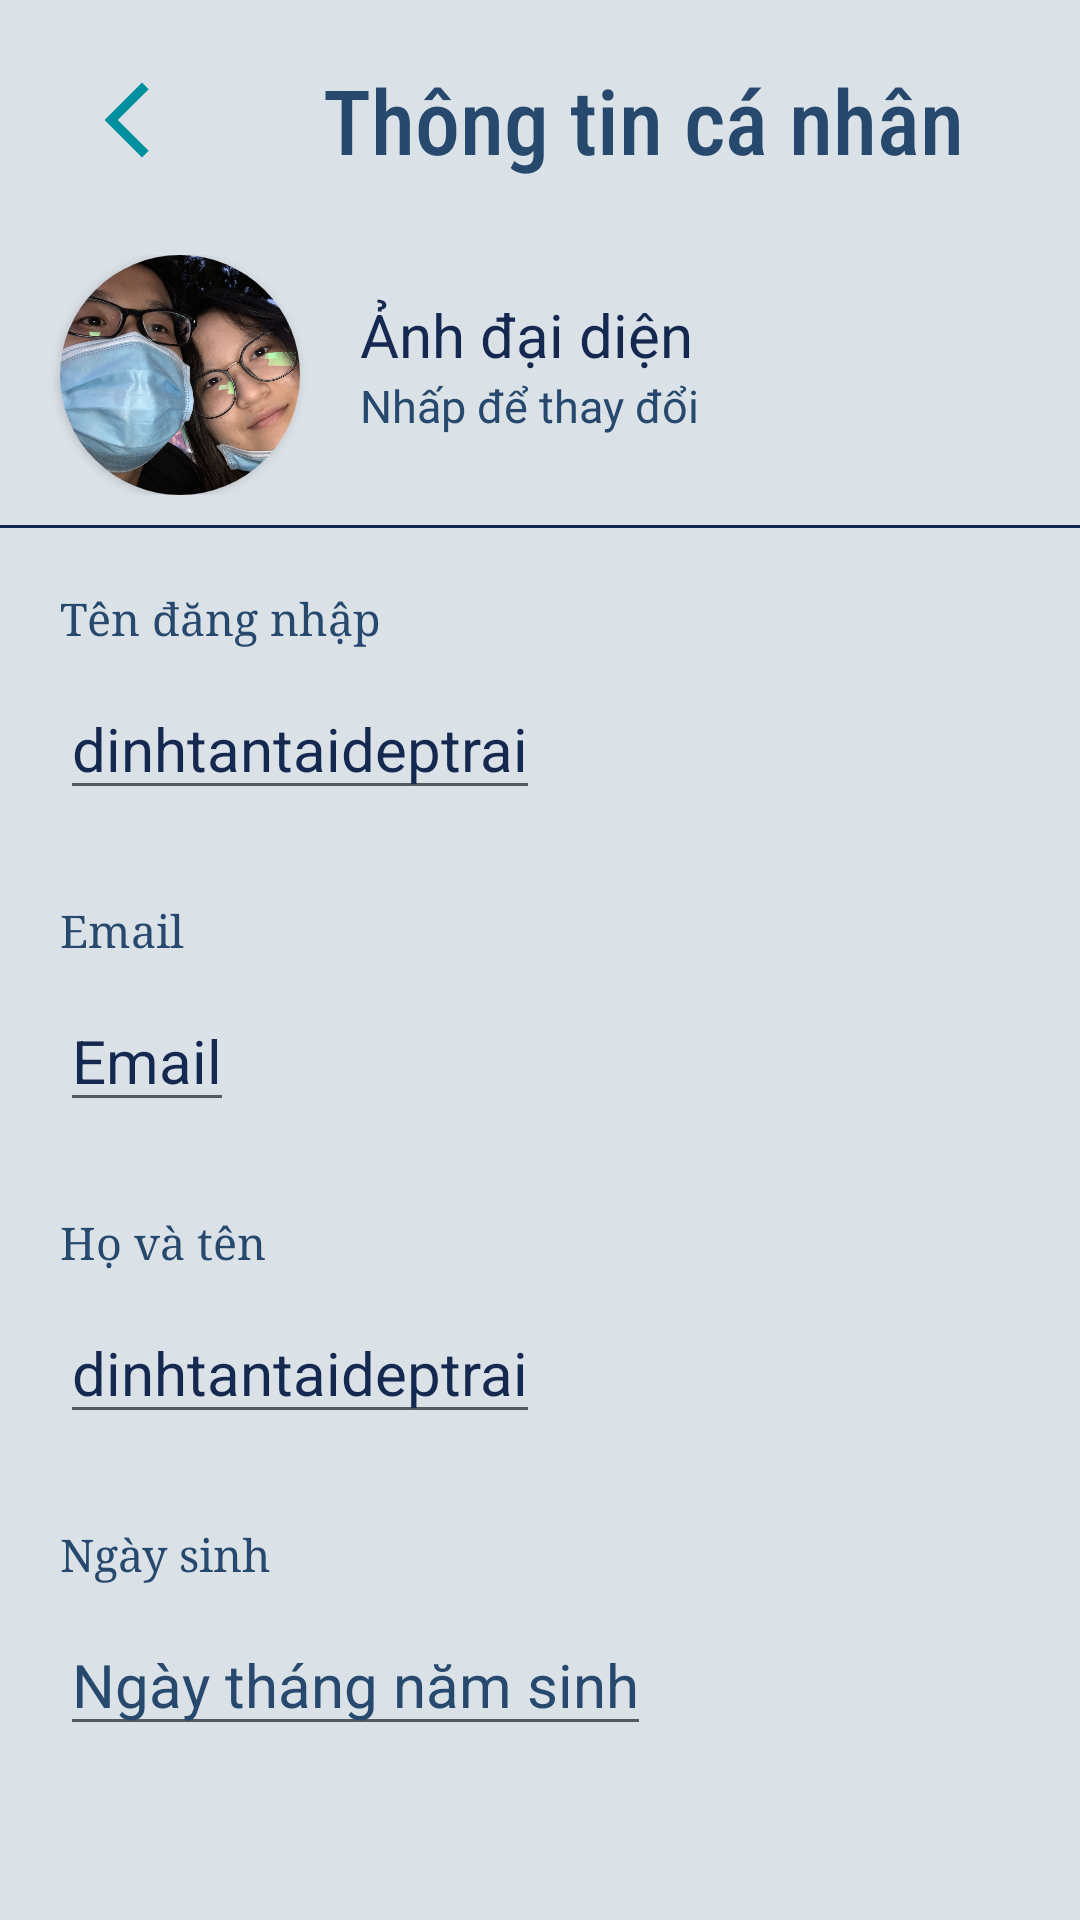

Icon click points for this 1080*1920 phone screenshot, format point (x, y):
back: point (126, 120)
userpic: point (180, 375)
